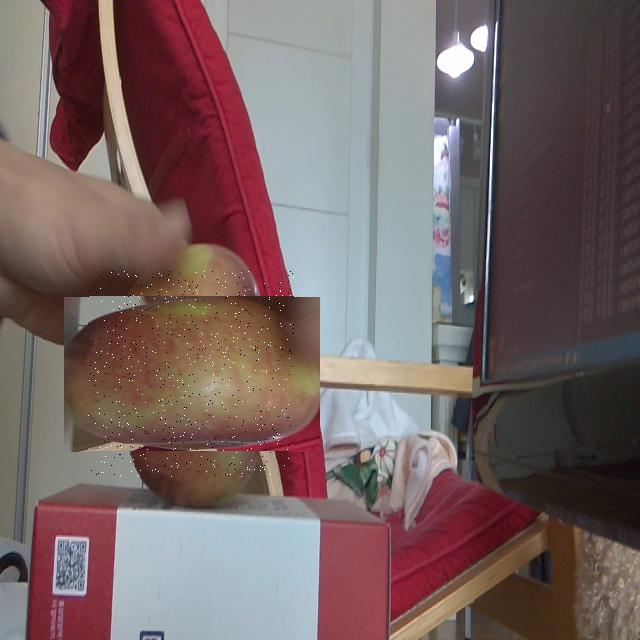apple: (88, 272, 294, 478)
